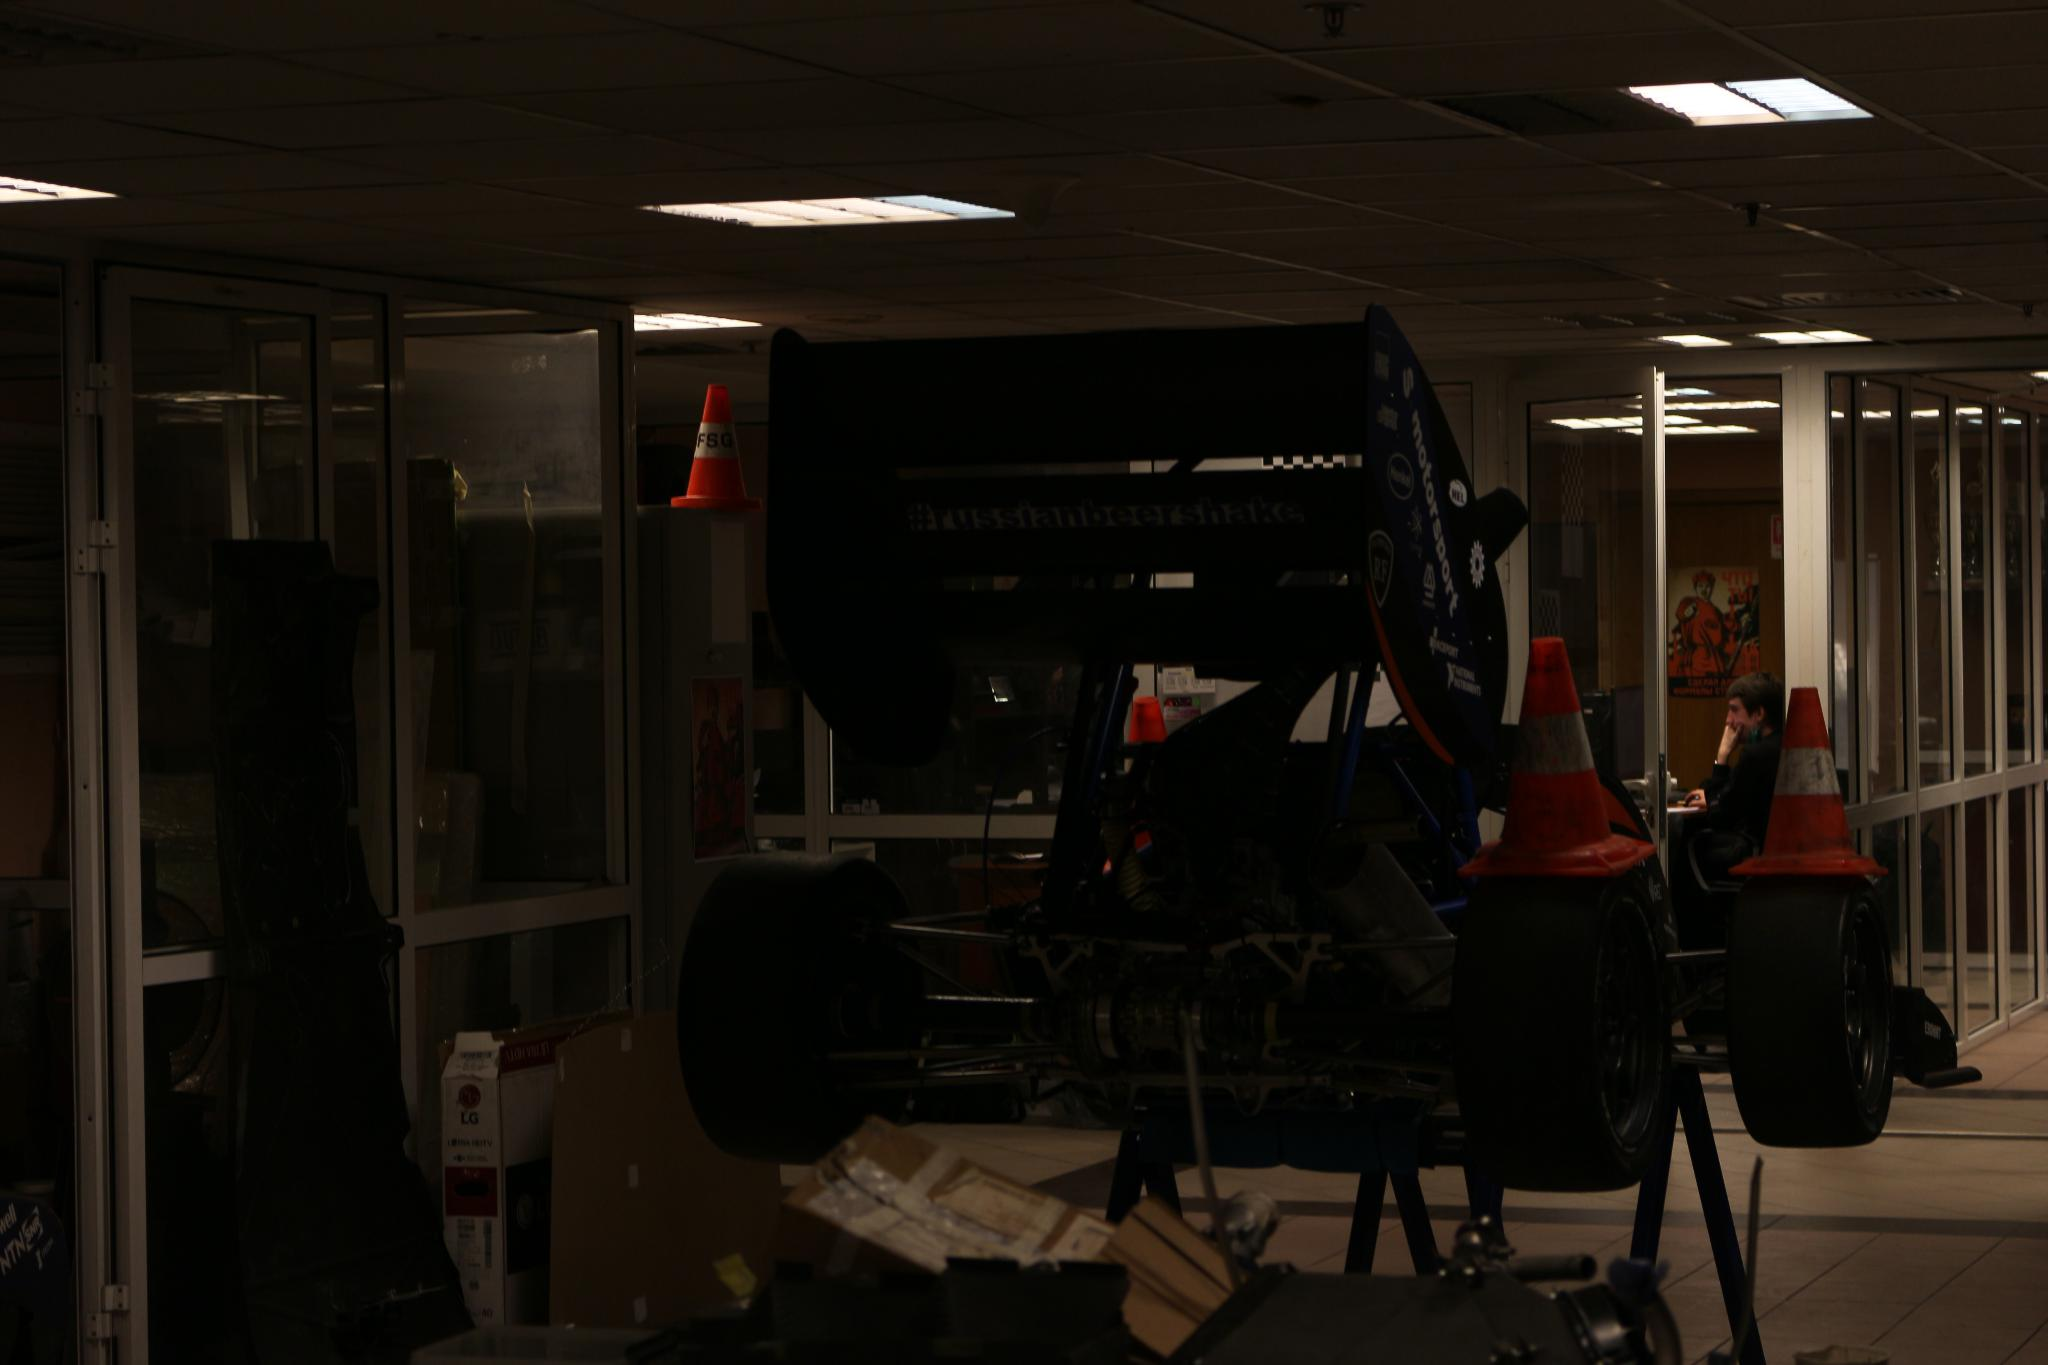Orange_Cone: (1454, 623, 1660, 876), (1728, 686, 1882, 882), (649, 366, 764, 512)
